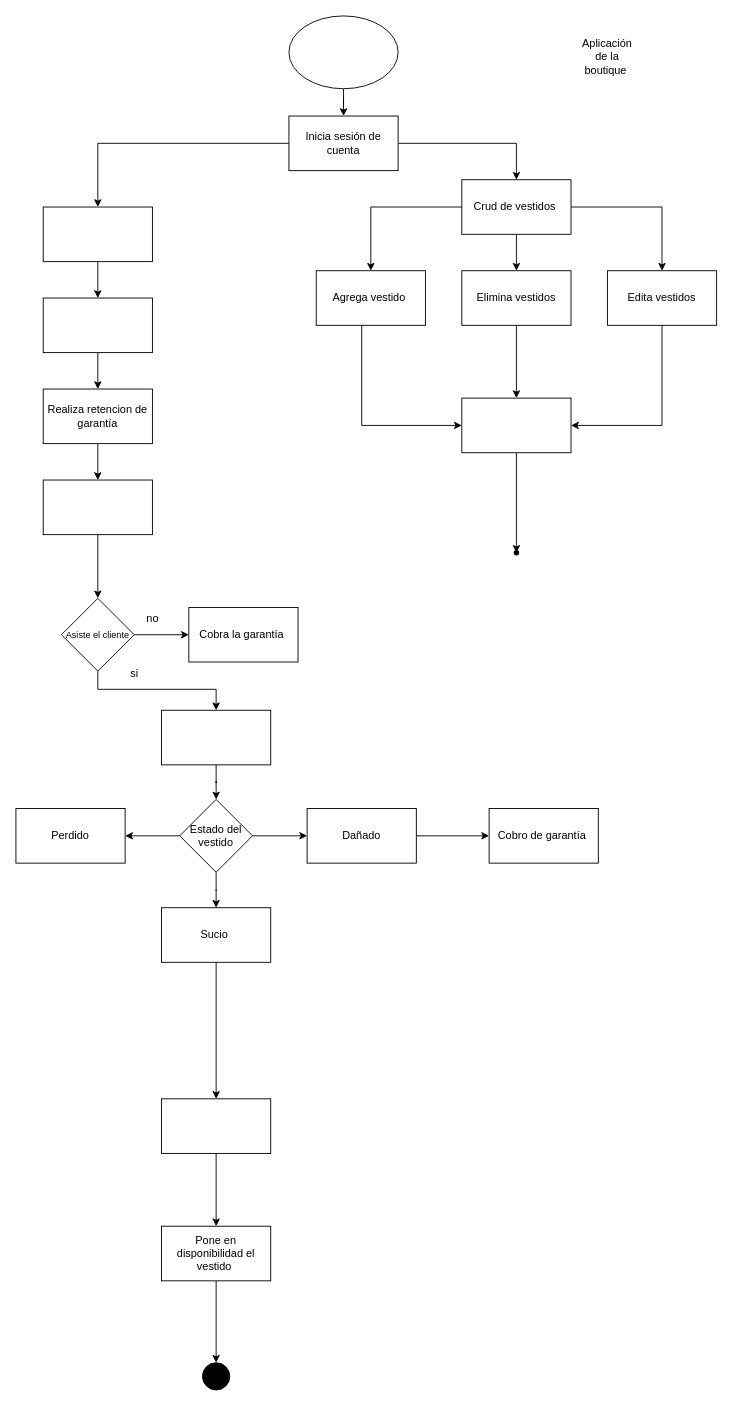
Image size: 733x1406. Some labels were removed from this diagram. Each missing label, with the centre of its shape:
"Actualiza" goes at (x=516, y=425).
"Agenda cita de devolución" goes at (x=97, y=507).
"Inicio" goes at (x=343, y=52).
"Pasa a tintorería" goes at (x=216, y=1125).
"Realiza cobro de renta" goes at (x=97, y=325).
"Recibe citas" goes at (x=97, y=234).
"Revisa el vestido" goes at (x=216, y=737).
